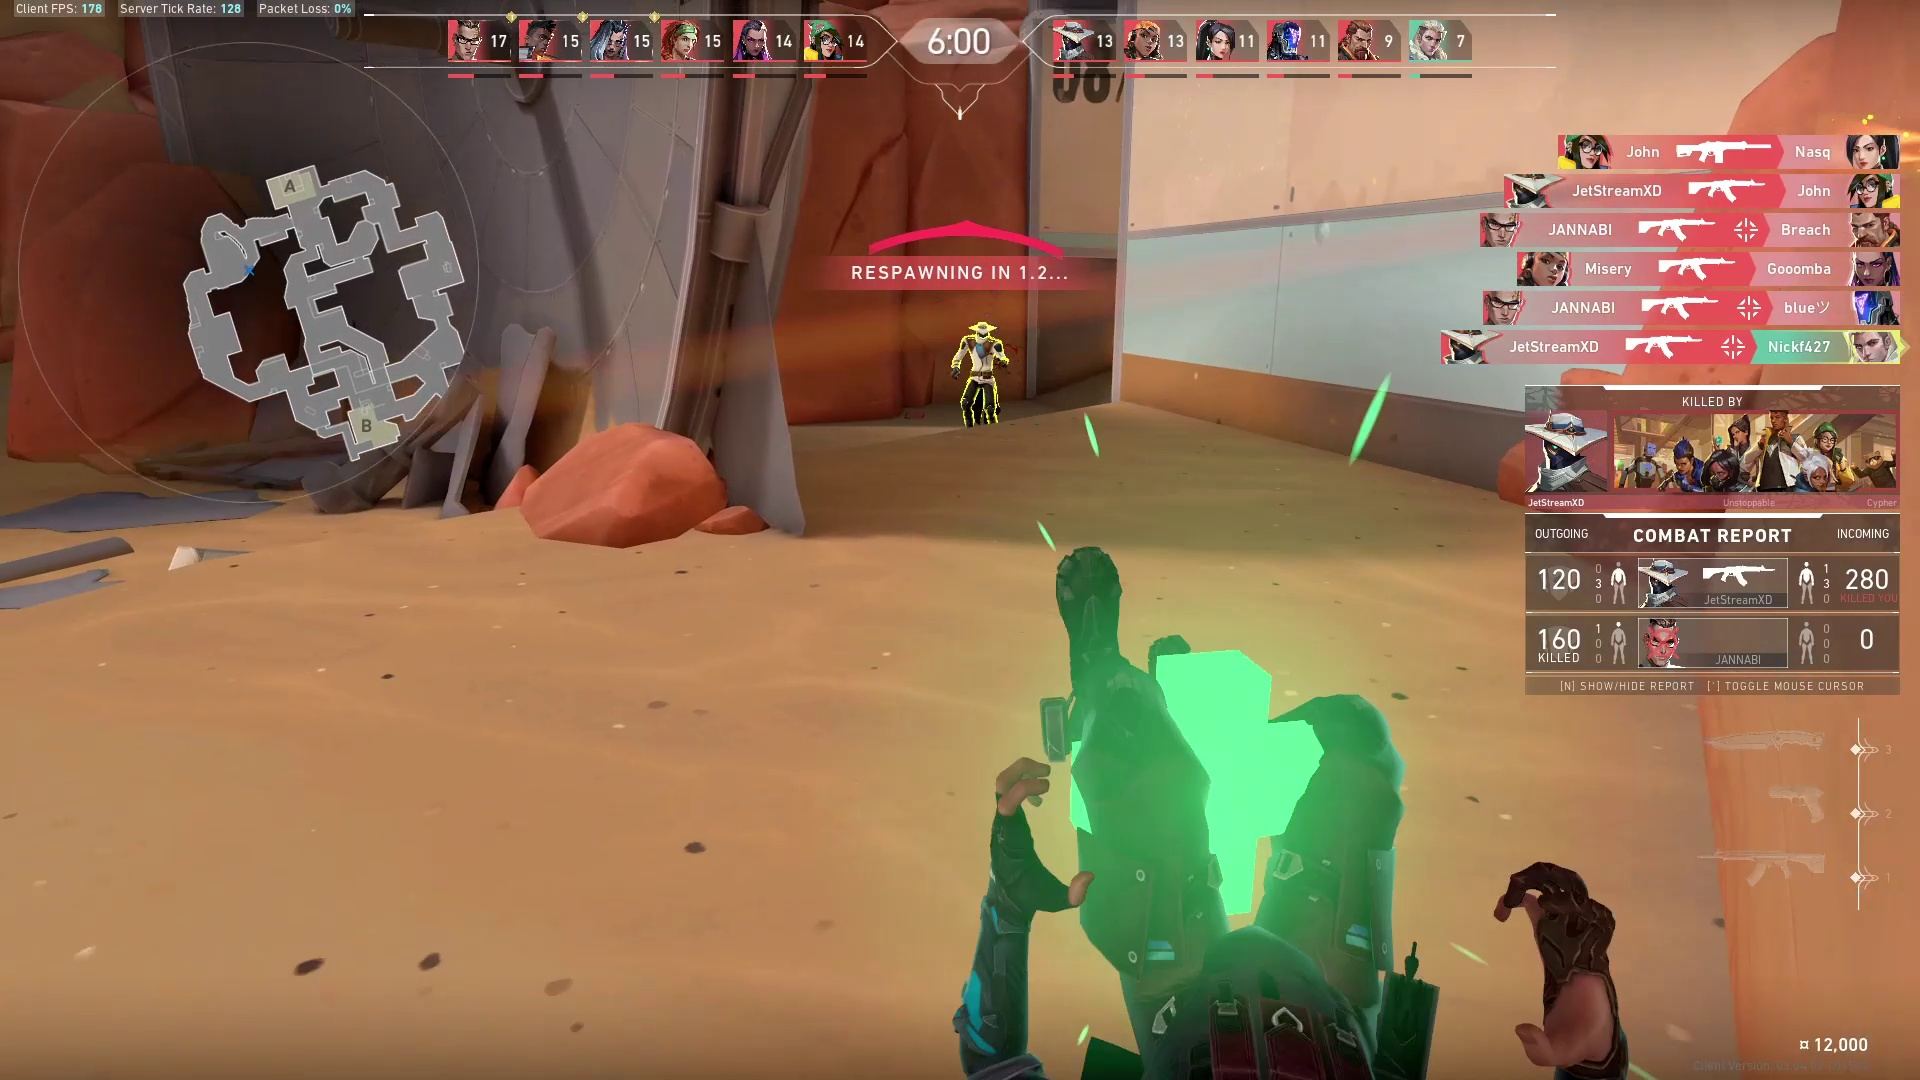enemy_body: (948, 340, 1011, 422)
enemy_head: (965, 313, 1000, 342)
